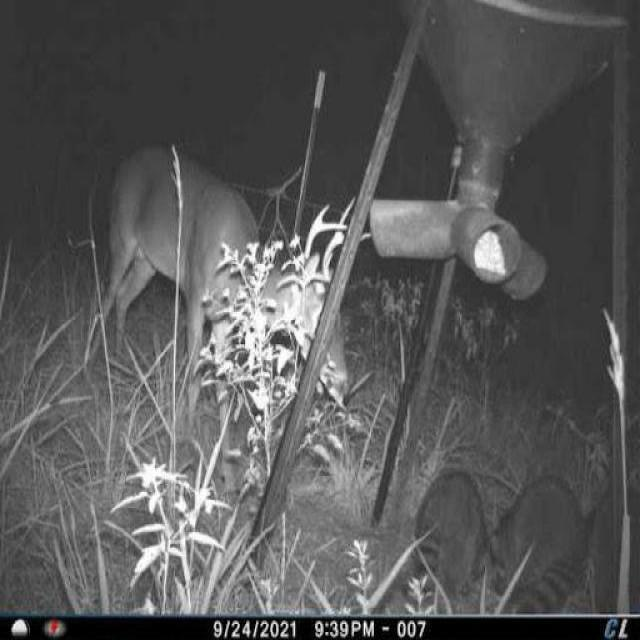deer: (76, 137, 346, 522)
